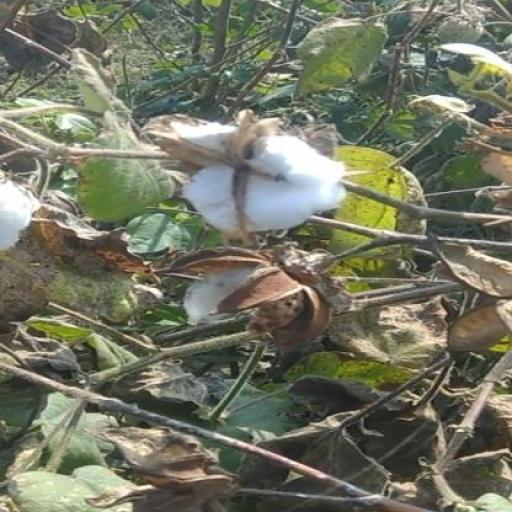cotton_ready: (114, 110, 372, 240)
